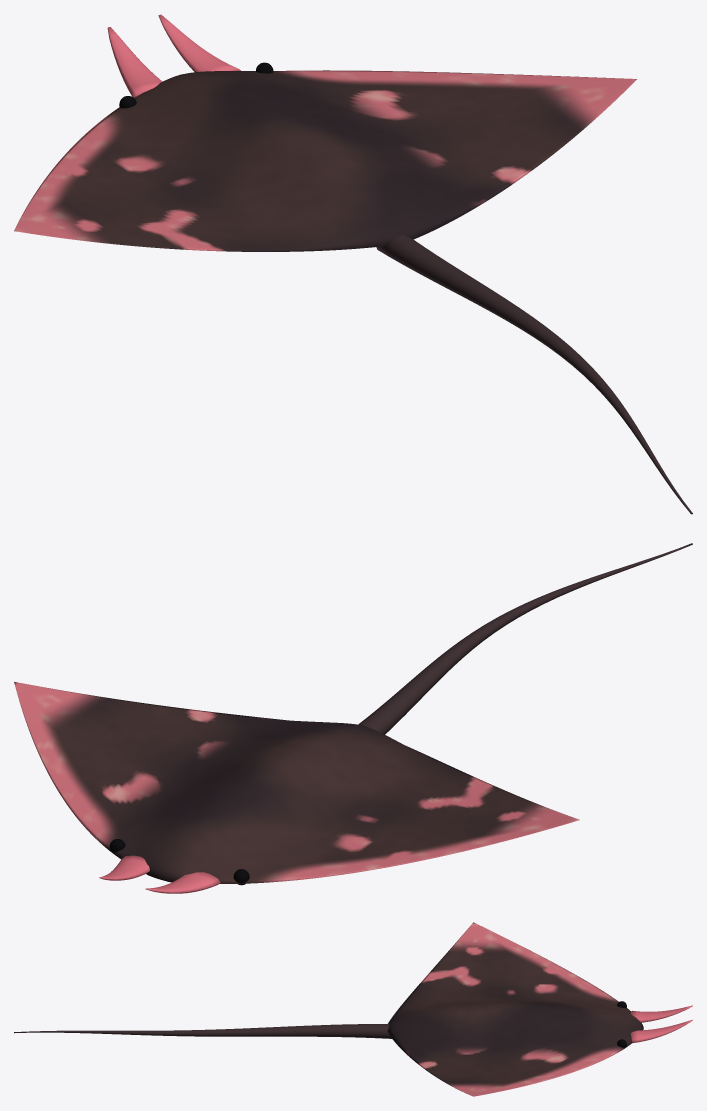
File: manta.glb
3 views of the same model, one above another, from view 1: azimuth 30°, elevation 25°; view 2: azimuth 150°, elevation 25°; view 3: azimuth 270°, elevation 25° (orthographic). The views are drawn at different scales.
Parts seen in each view (by area): view 1: MantaBody, Tail, HeadFin_L, HeadFin_R; view 2: MantaBody, Tail, HeadFin_L, HeadFin_R; view 3: MantaBody, Tail, HeadFin_R, HeadFin_L.
Part boxes in pixels (box(x1,y1,x2,y2)): MantaBody: box(14, 70, 636, 251); Tail: box(376, 235, 692, 514); HeadFin_L: box(107, 27, 162, 97); HeadFin_R: box(158, 14, 240, 72); MantaBody: box(14, 681, 579, 883); Tail: box(358, 543, 692, 734); HeadFin_L: box(145, 872, 220, 893); HeadFin_R: box(99, 855, 149, 880); MantaBody: box(387, 922, 643, 1096); Tail: box(14, 1024, 391, 1038); HeadFin_R: box(630, 1019, 692, 1043); HeadFin_L: box(631, 1005, 692, 1022).
Bounding box in the file's own units: 16 × 1.52 × 26.31.
